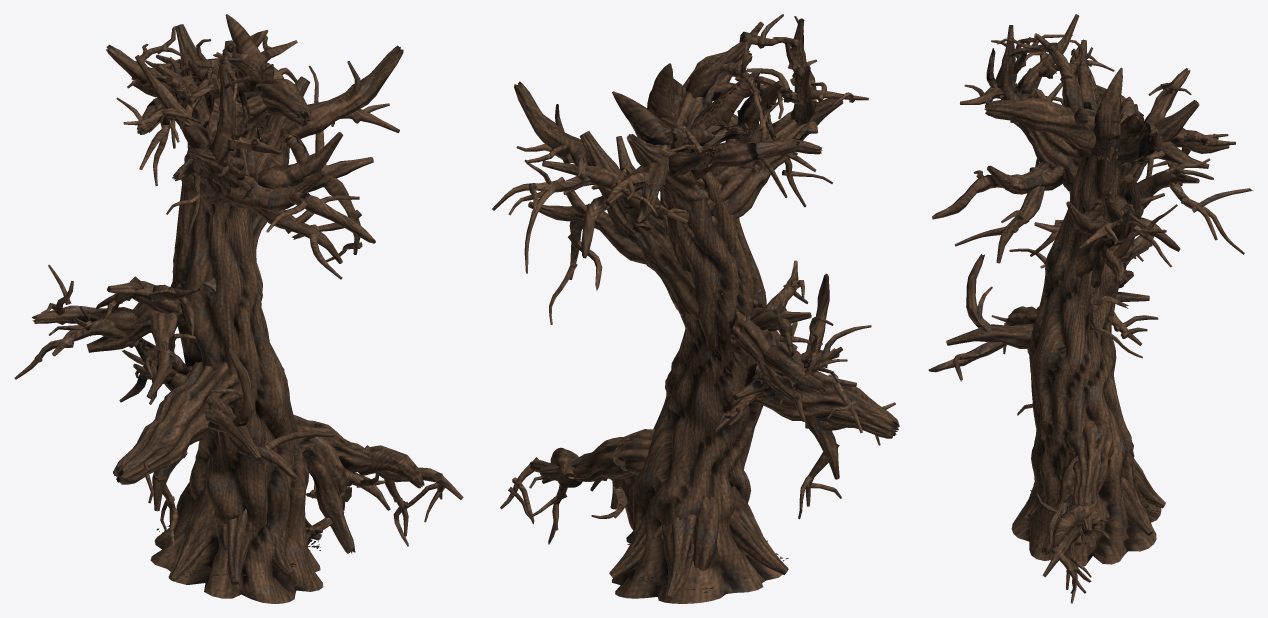
File: dead_oak.glb
3 views of the same model, side by side, from view 1: azimuth 30°, elevation 25°; view 2: azimuth 150°, elevation 25°; view 3: azimuth 270°, elevation 25° (orthographic). The views are drawn at different scales.
Parts seen in each view (by area): view 1: dead_oak; view 2: dead_oak; view 3: dead_oak.
Boxes of the visible parts, x1,y1,x2,y2 form: dead_oak: (14, 14, 463, 603); dead_oak: (492, 14, 899, 603); dead_oak: (928, 14, 1253, 603).
Bounding box in the file's own units: 3.07 × 4.17 × 2.52.
Materials: 2 (2 with a texture image).
